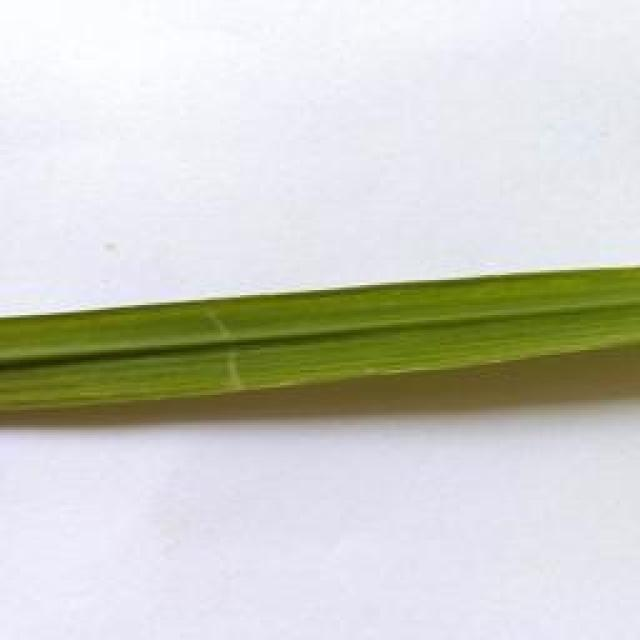Healthy-Plant: (0, 264, 640, 417)
